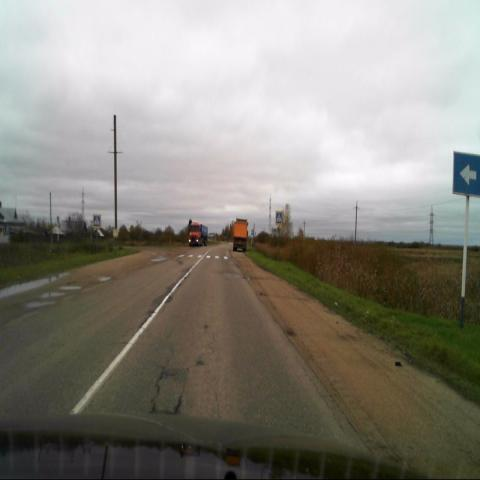5_19_1: (93, 213, 101, 229), (275, 210, 283, 225)
